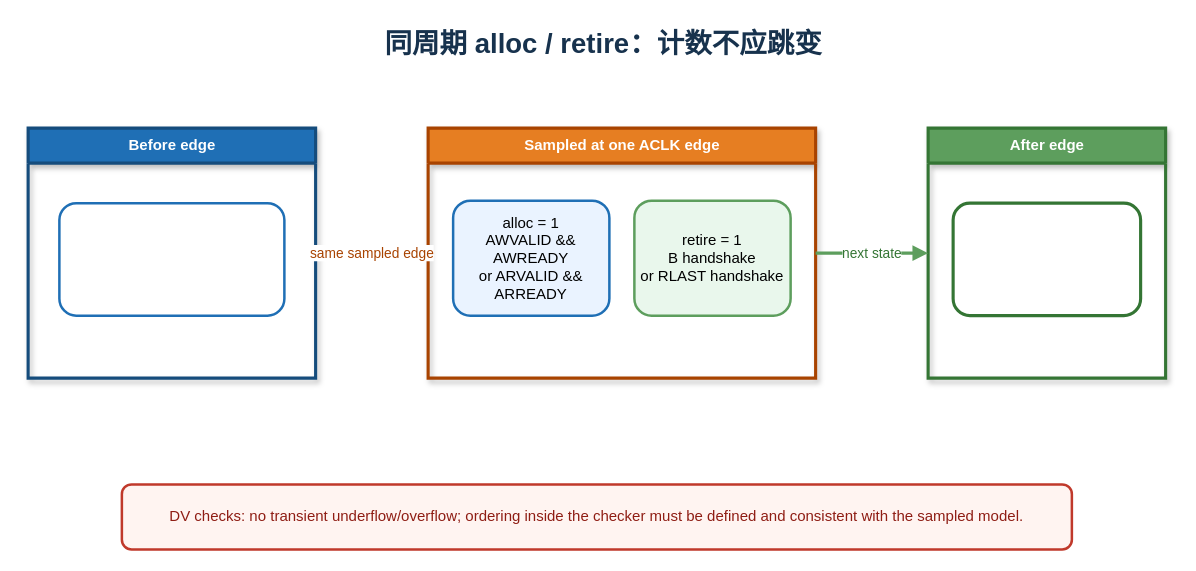
This 1196x571 diagram has some shape labels left out. Each missing label, with the centre of its shape:
"ot_count = N one free entry or one response pending" belongs at (x=171, y=258).
"ot_count_next = N + 1 - 1 = N" belongs at (x=1046, y=259).
